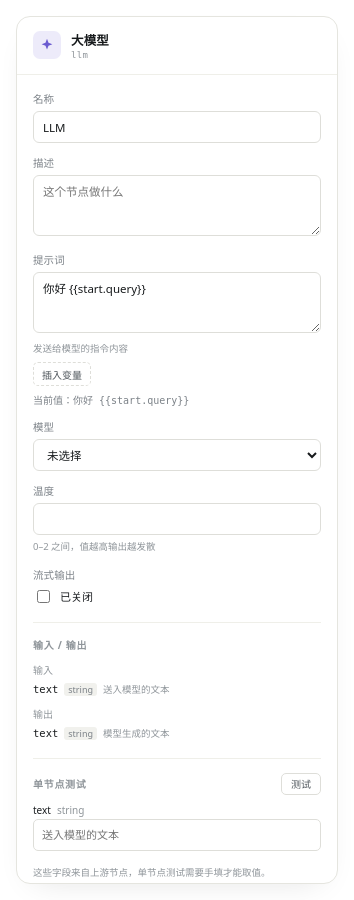
it: 单节点测试（R5-8） › 上游引用没有手填时给出可读错误
Earlier steps of the test are not shown.
Click the button "测试".
click(301, 784)  # box x1=281 y1=772 x2=321 y2=794
(page scrolled)
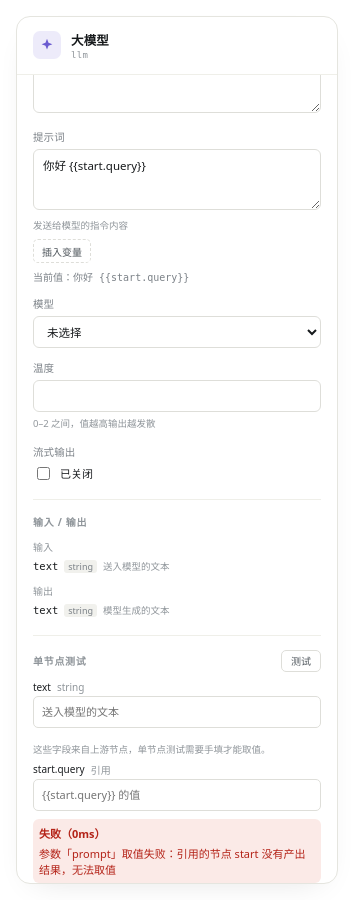
Now the text "参数「prompt」取值失败：引用的节点 start 没有产出结果，无法取值" is shown, box x1=39 y1=844 x2=315 y2=876
